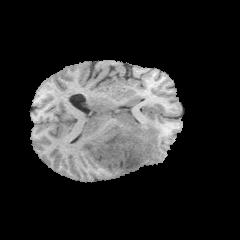glioma: (99, 123, 157, 169)
